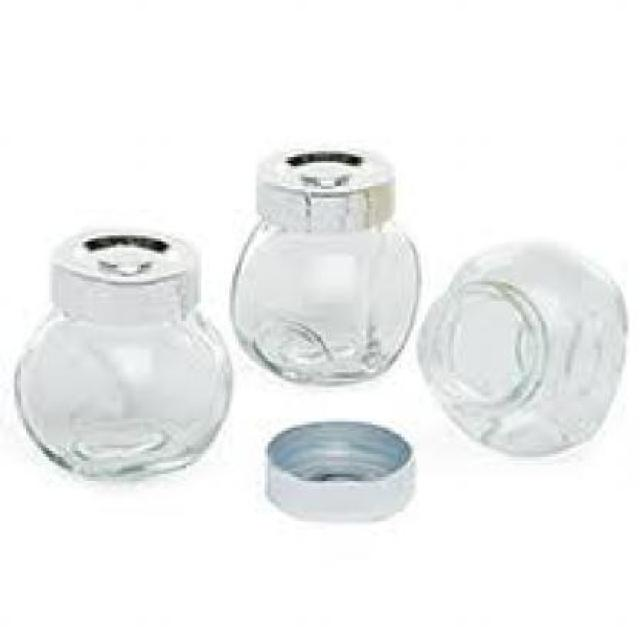GLASS: (413, 241, 622, 454), (8, 305, 227, 478), (227, 218, 413, 382)
METAL: (262, 416, 413, 521), (52, 221, 192, 314), (253, 145, 390, 230)
